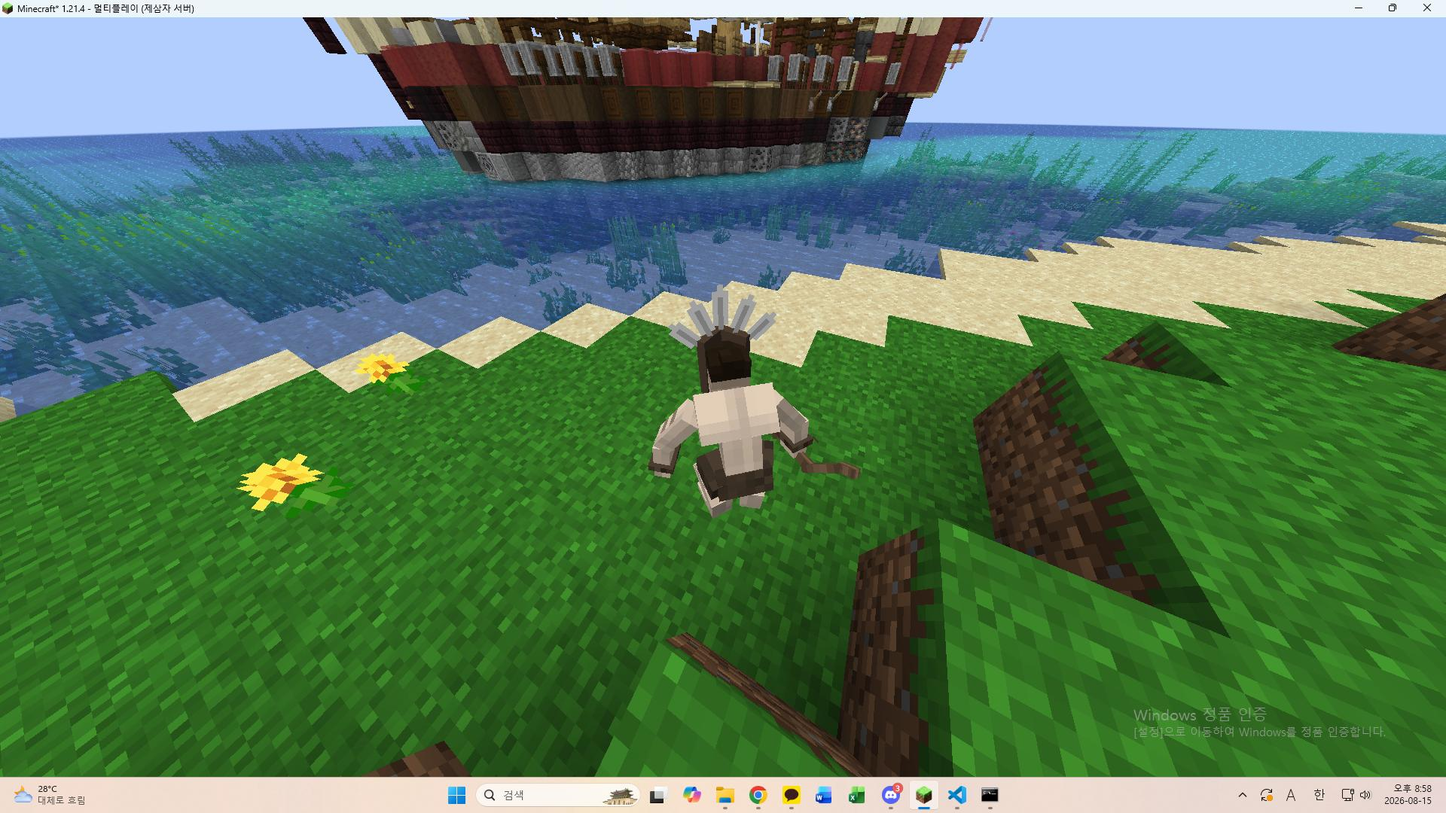bow_indian: (630, 297, 869, 547)
